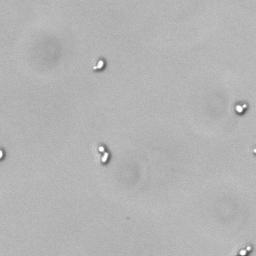budding: (97, 143, 111, 165), (235, 241, 253, 256), (233, 101, 248, 116), (91, 57, 106, 71)
